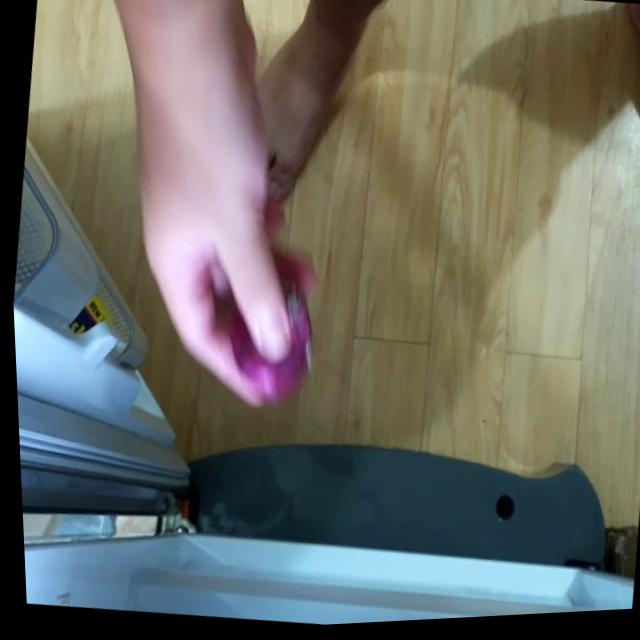onion: (213, 274, 321, 422)
